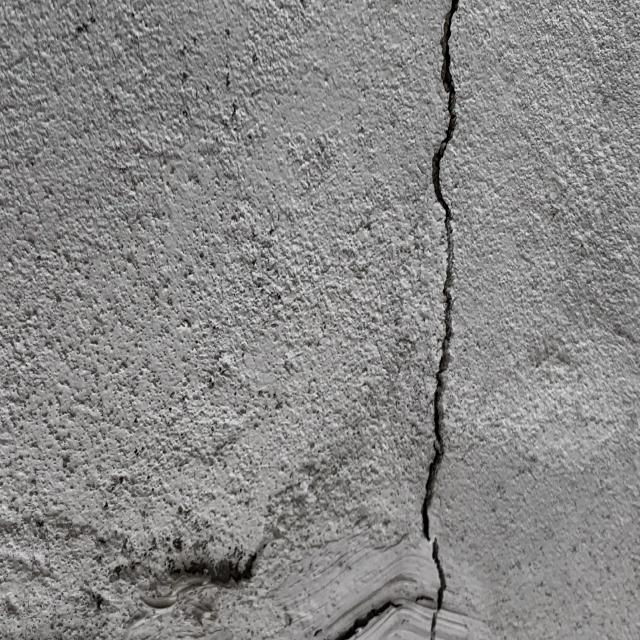SurfaceCrack: (365, 1, 506, 640)
